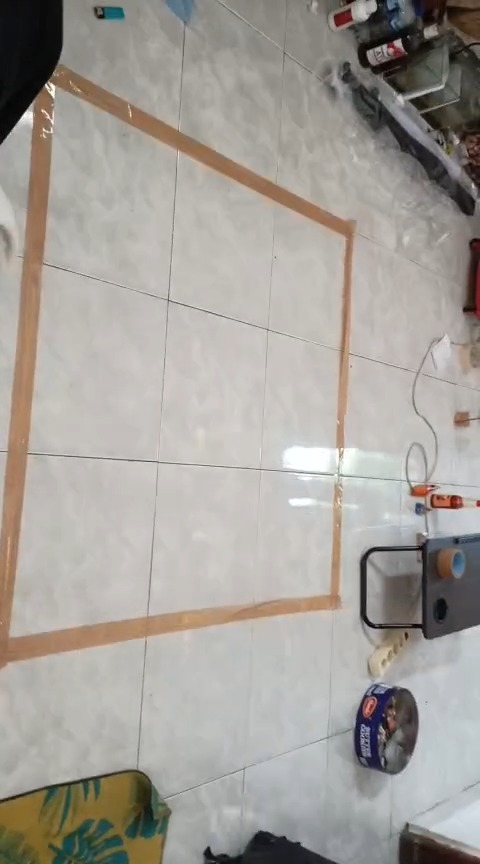floor marking: (0, 66, 354, 668)
